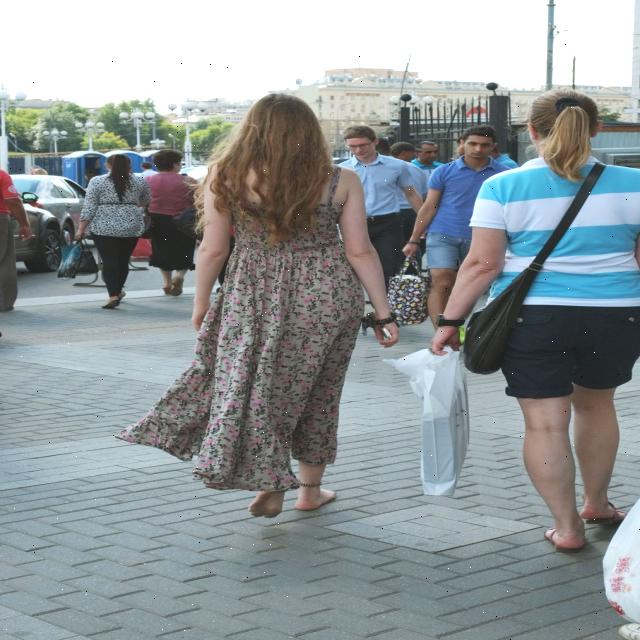No Safety Boots: (249, 482, 292, 518), (295, 488, 337, 511)
